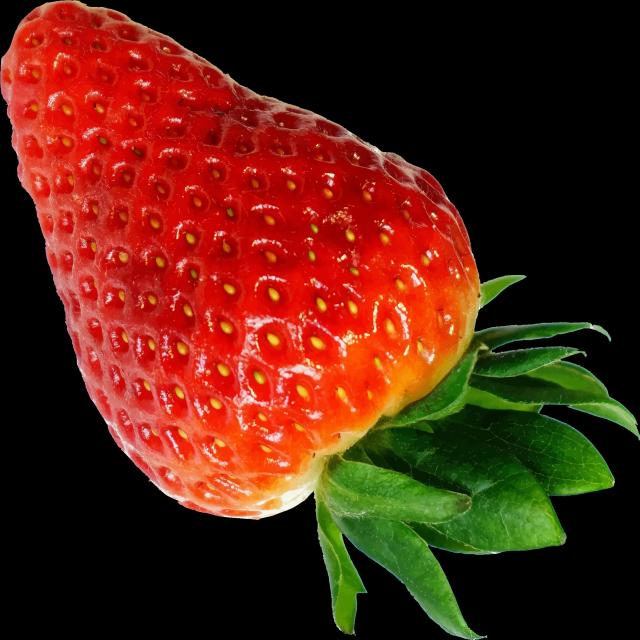strawberry: (0, 0, 593, 591)
